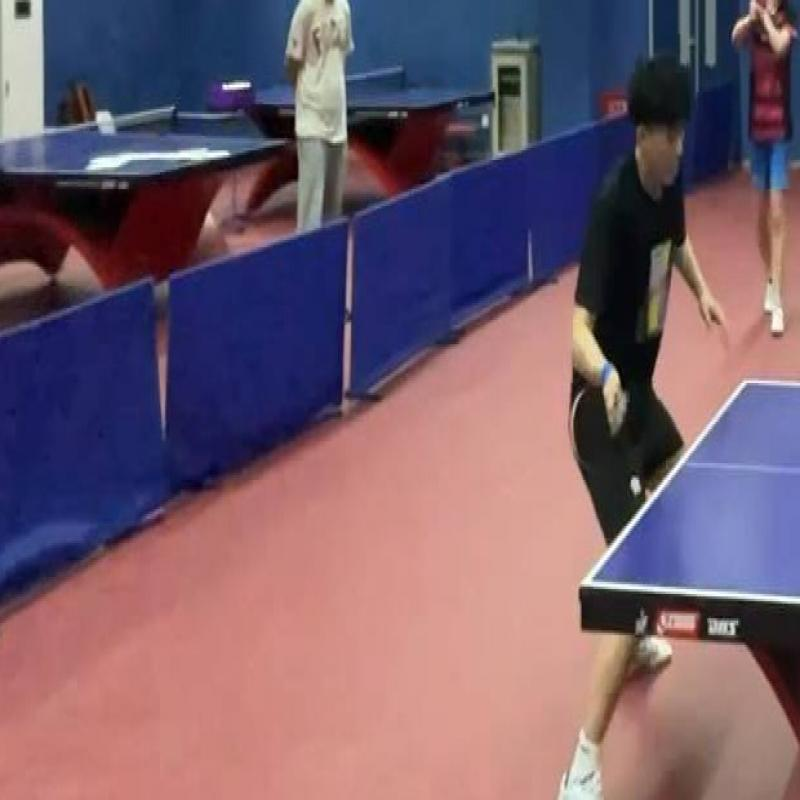bats: (552, 356, 620, 473)
